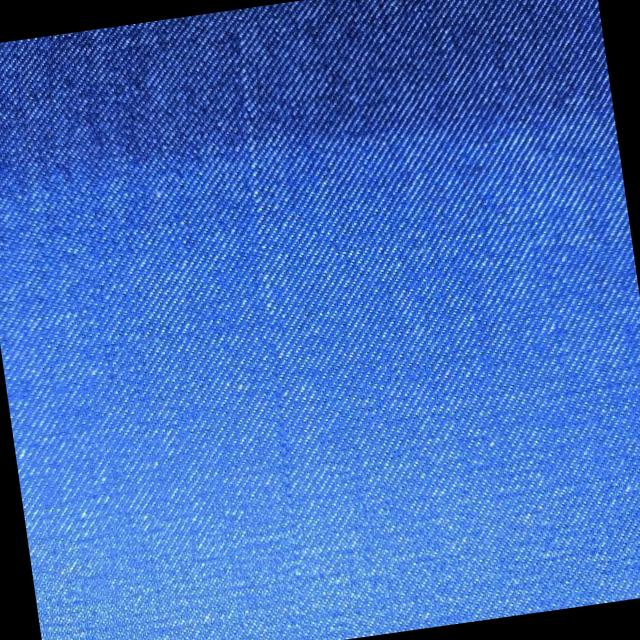Warp_Weft: (208, 20, 330, 637)
